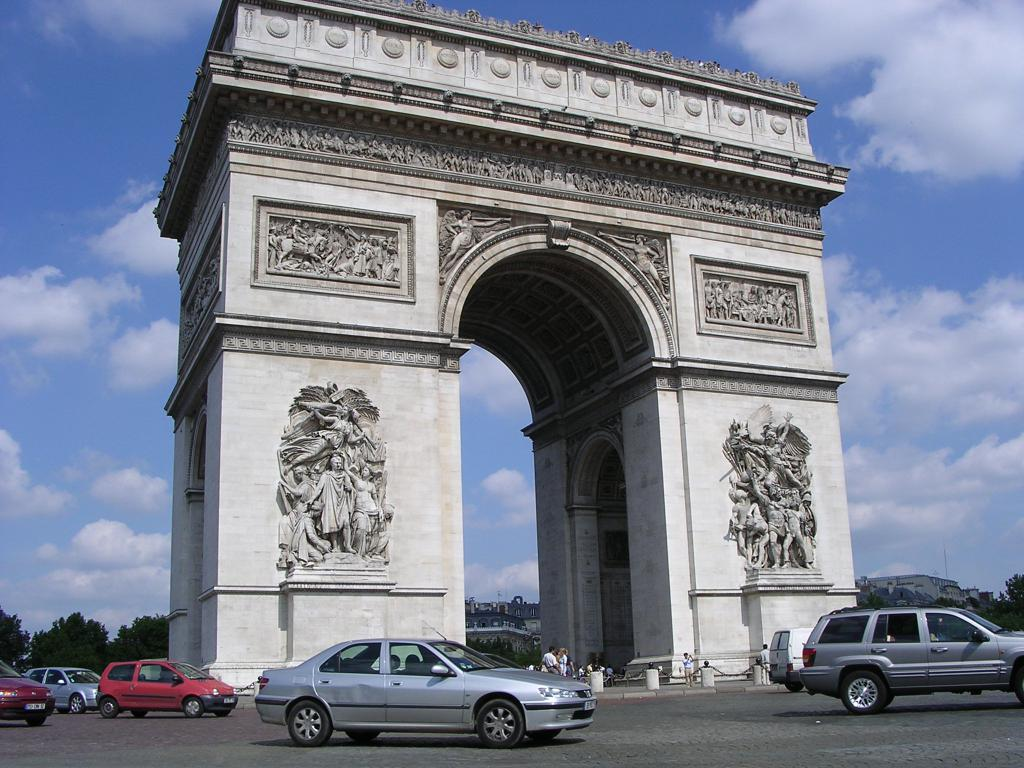Car: (252, 622, 597, 750), (798, 601, 1023, 714), (93, 661, 238, 718), (22, 663, 101, 711), (0, 663, 53, 727)
